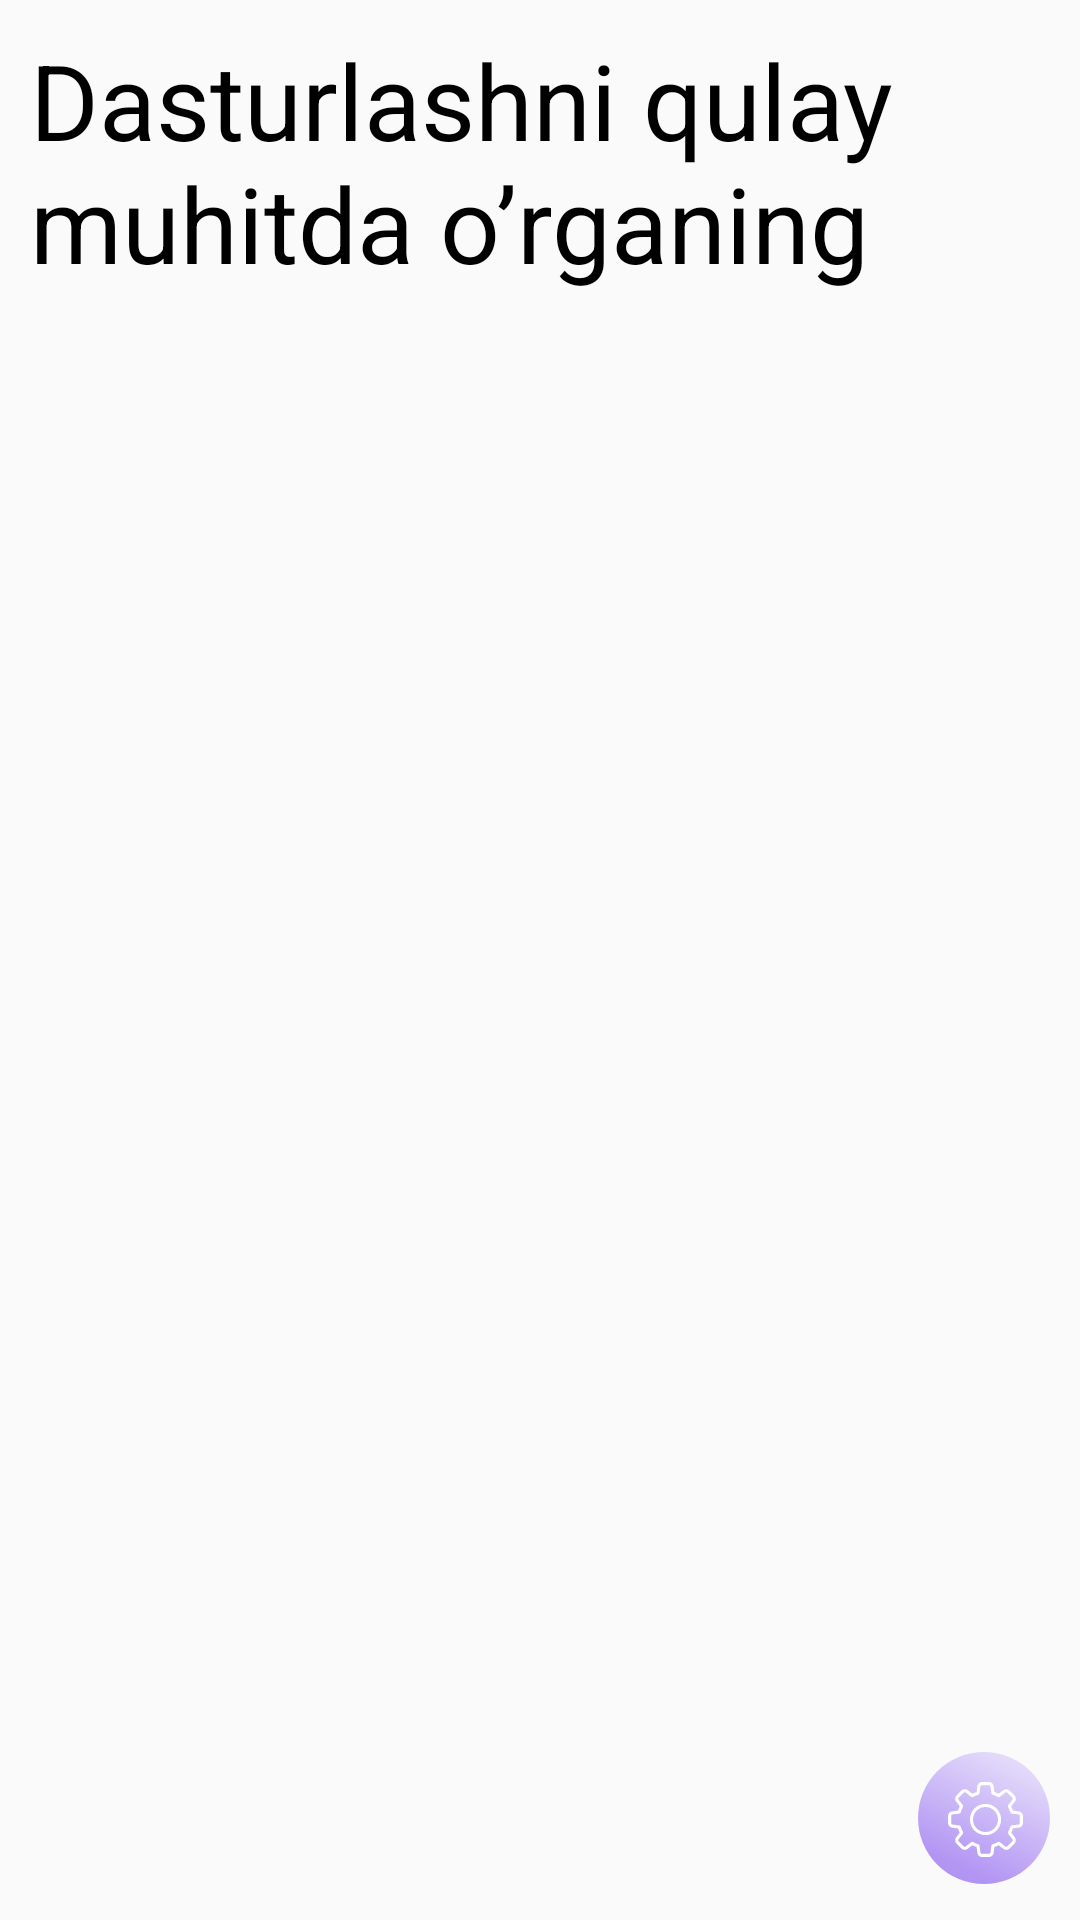

Icons on this 1080px×1920px Android screen, each with its box as (x1, y1, x2, y2):
add settnigs: (918, 1752, 1050, 1884)
